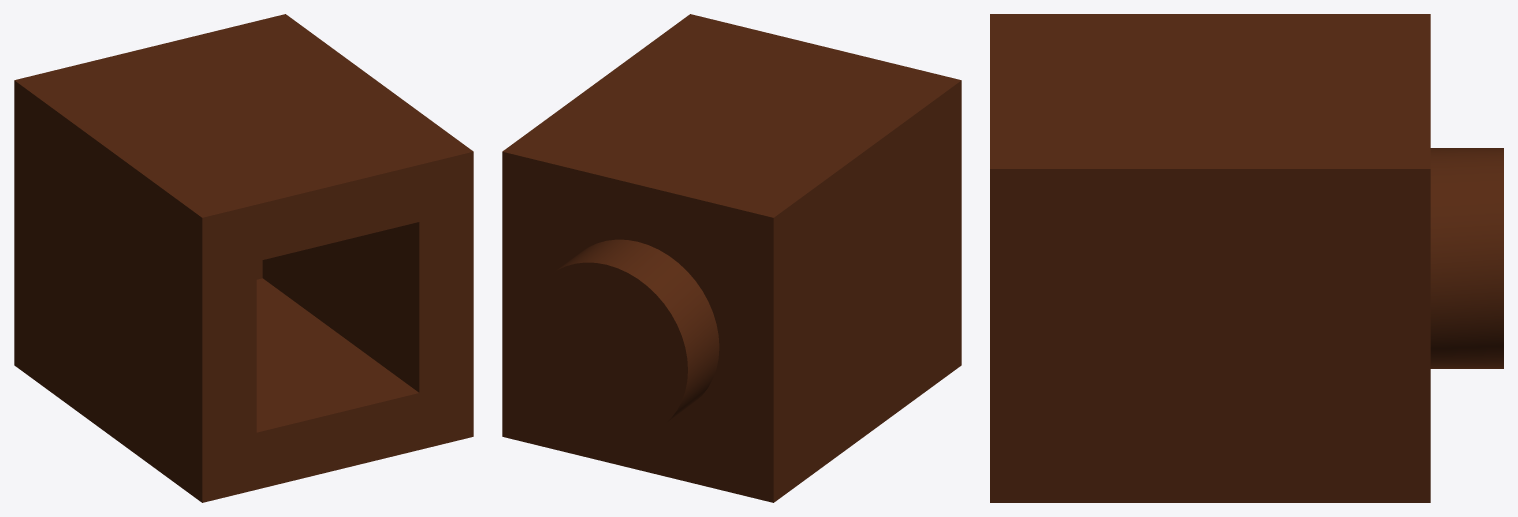
Rendered from tiera1.dae.
3 views of the same model, side by side, from view 1: azimuth 30°, elevation 25°; view 2: azimuth 150°, elevation 25°; view 3: azimuth 270°, elevation 25° (orthographic). The views are drawn at different scales.
Visible parts, largest first — view 1: Inner-Node-UntitledModel_dot_io-0; view 2: Inner-Node-UntitledModel_dot_io-0; view 3: Inner-Node-UntitledModel_dot_io-0.
Part boxes in pixels (box(x1,y1,x2,y2)): Inner-Node-UntitledModel_dot_io-0: box(14, 14, 473, 502); Inner-Node-UntitledModel_dot_io-0: box(502, 14, 961, 502); Inner-Node-UntitledModel_dot_io-0: box(990, 14, 1503, 502).
Size of the model in its own units: 19.75 by 19.82 by 27.65.
